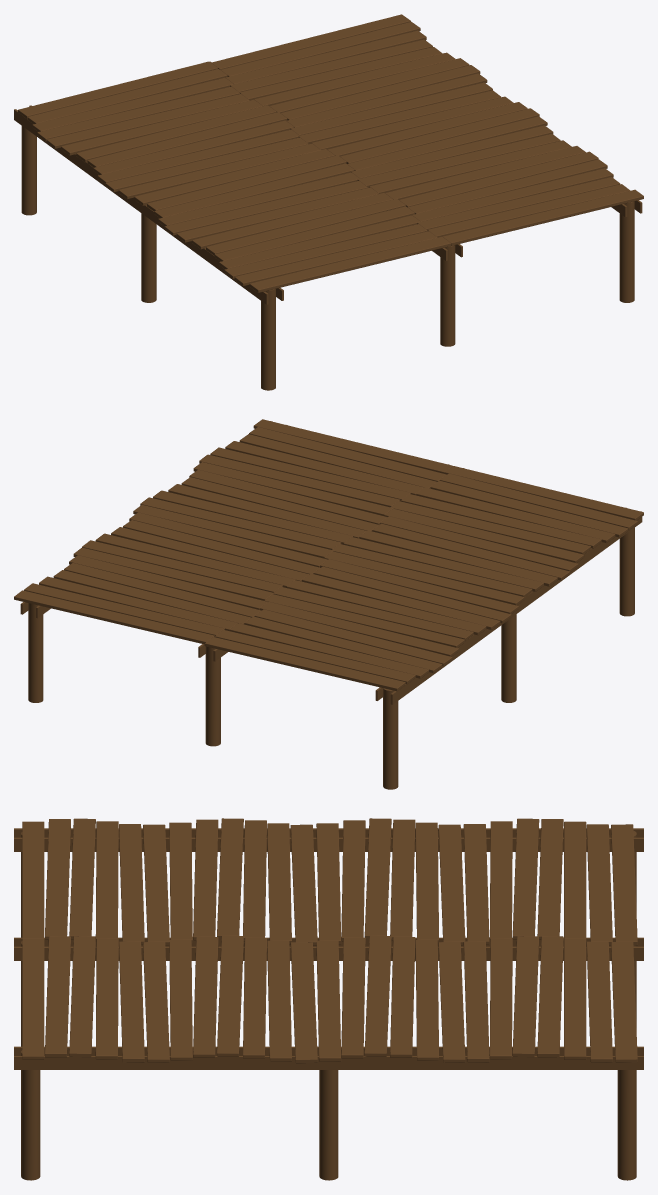
Rendered from Wooden Platforms.glb.
3 views of the same model, one above another, from view 1: azimuth 30°, elevation 25°; view 2: azimuth 150°, elevation 25°; view 3: azimuth 270°, elevation 25° (orthographic). The views are drawn at different scales.
Visible parts, largest first — view 1: Cube (×51), Cylinder (×5); view 2: Cube (×51), Cylinder (×5); view 3: Cube (×56), Cylinder (×3).
Boxes of the visible parts, x1,y1,x2,y2 form: Cube (×51): (14,14,643,304); Cylinder (×5): (21,126,634,390); Cube (×51): (14,419,643,704); Cylinder (×5): (28,528,634,789); Cube (×56): (14,818,643,1069); Cylinder (×3): (21,1050,636,1180).
Bounding box in the file's own units: 5.98 × 1.49 × 6.6.
